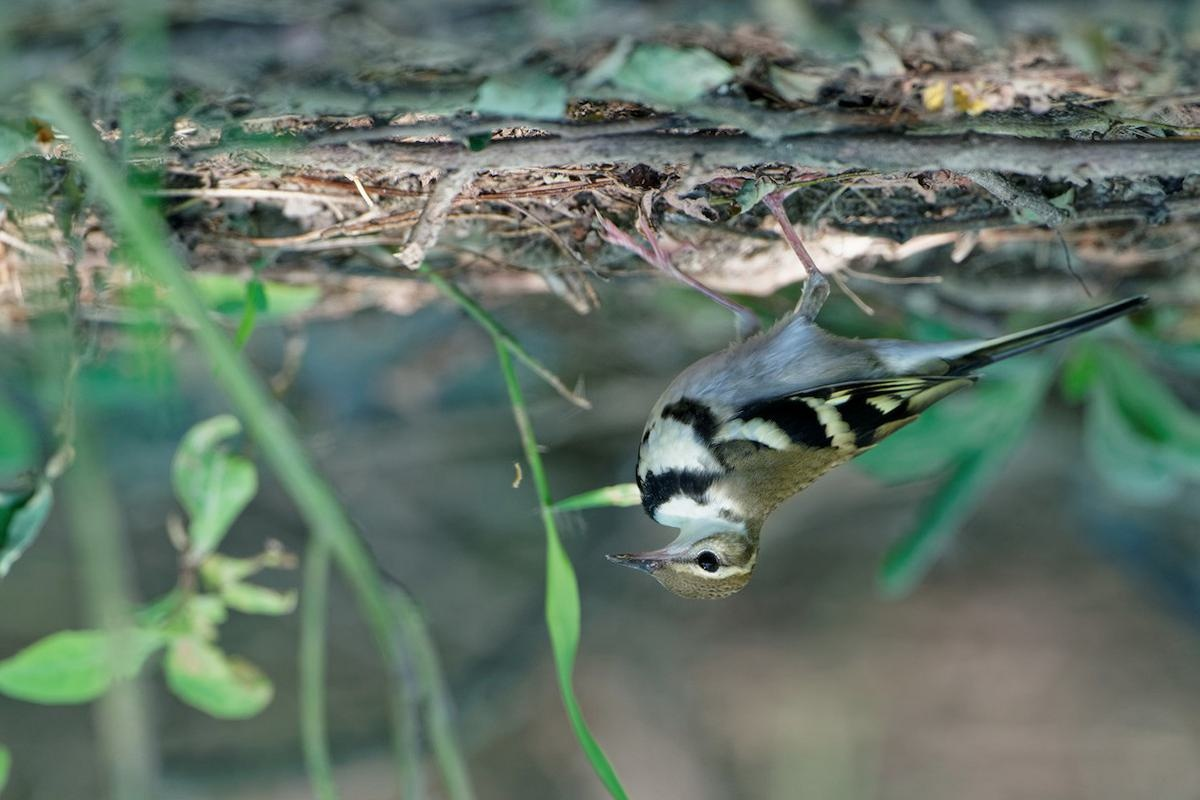wagtail: (596, 204, 1099, 622)
